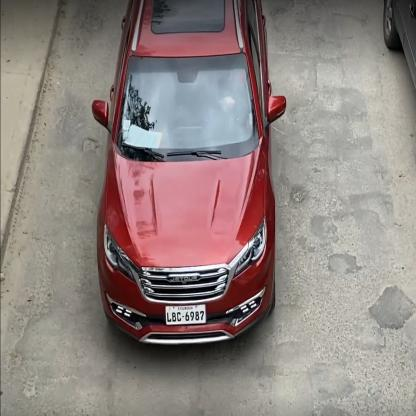Placa: (166, 306, 208, 326)
